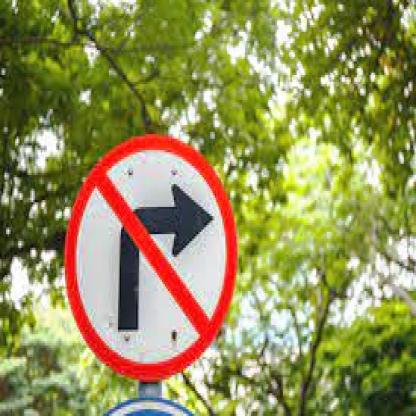No right turn: (64, 134, 236, 382)
